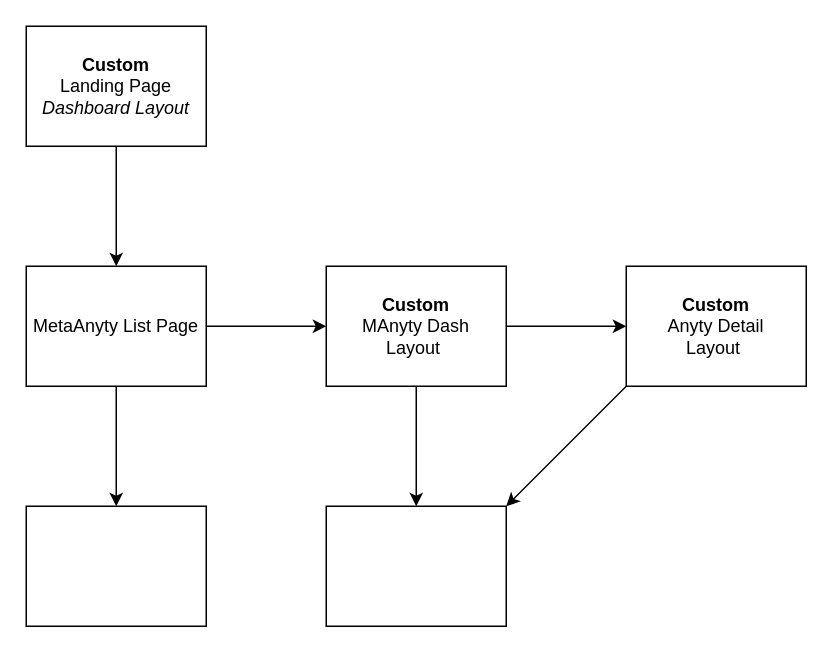
Some shapes in this 833 by 653 pixel diagram are drawn without their labels. The shapes that lost their labels are listed below. From the top down, each one's box as (x1, y1, x2, y2) in pixels, then its label:
(25, 505, 206, 626): MAnyty Editor
(325, 505, 506, 626): Anyty Editor
